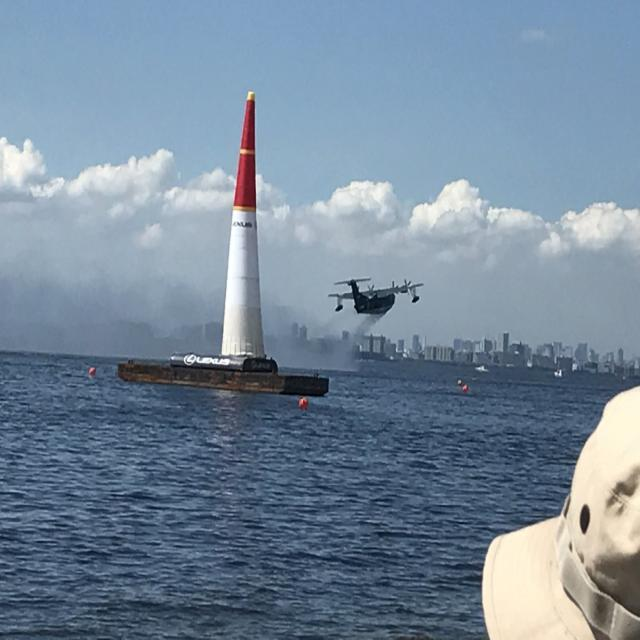MIL_Plane: (327, 277, 424, 315)
